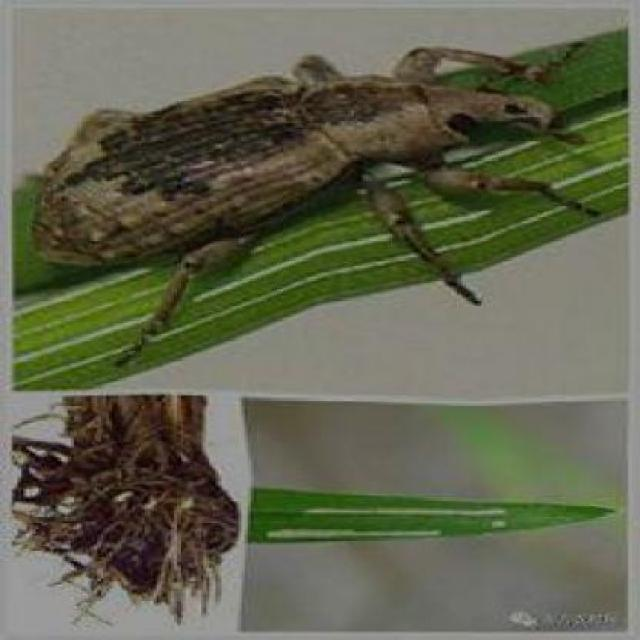rice-bug: (34, 45, 568, 309)
